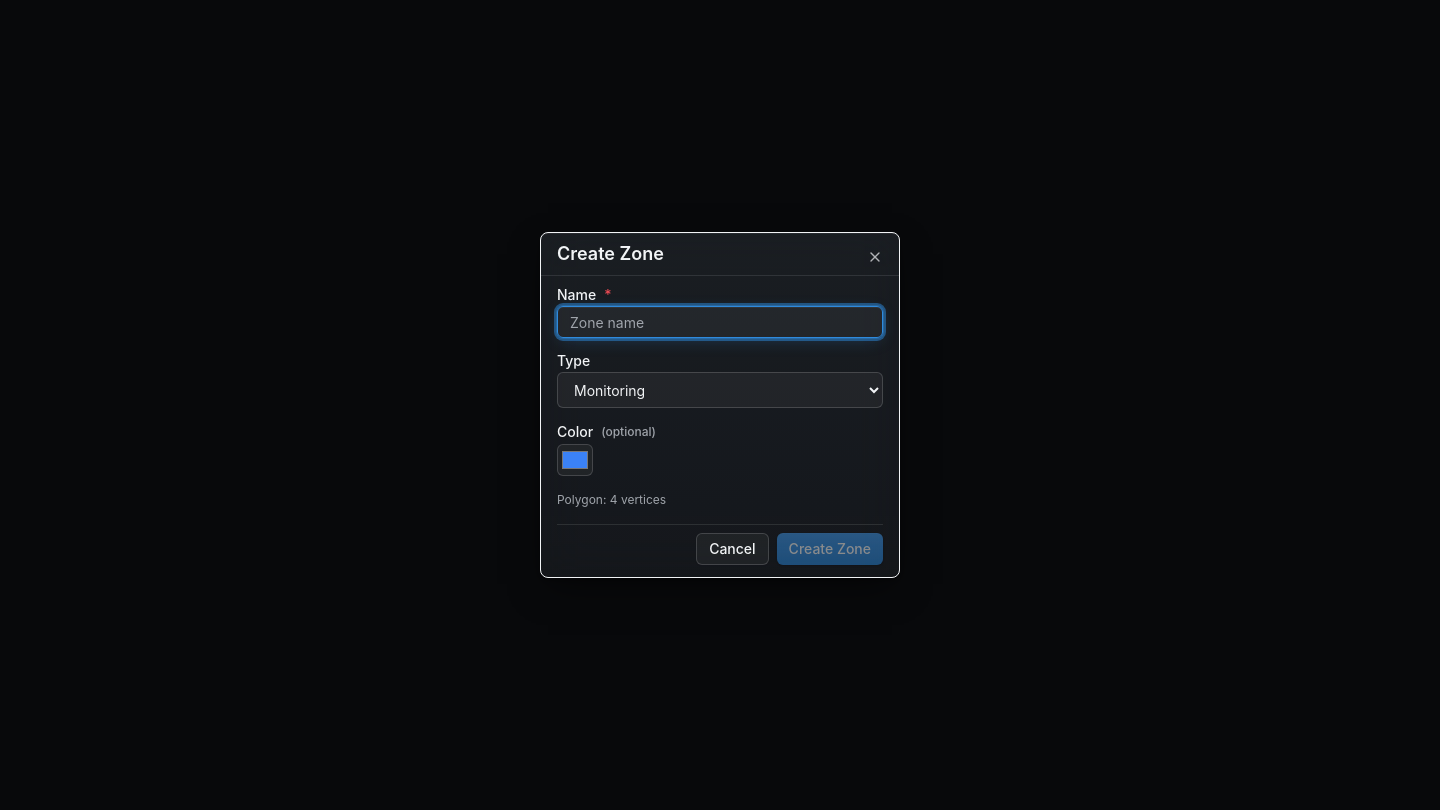
CreateZoneDialog › shows self-intersection validation error for a bowtie polygon
The image size is (1440, 810).
Type "Bad Zone" into the field labelled "Name *" at (720, 322), box [557,306,883,338]
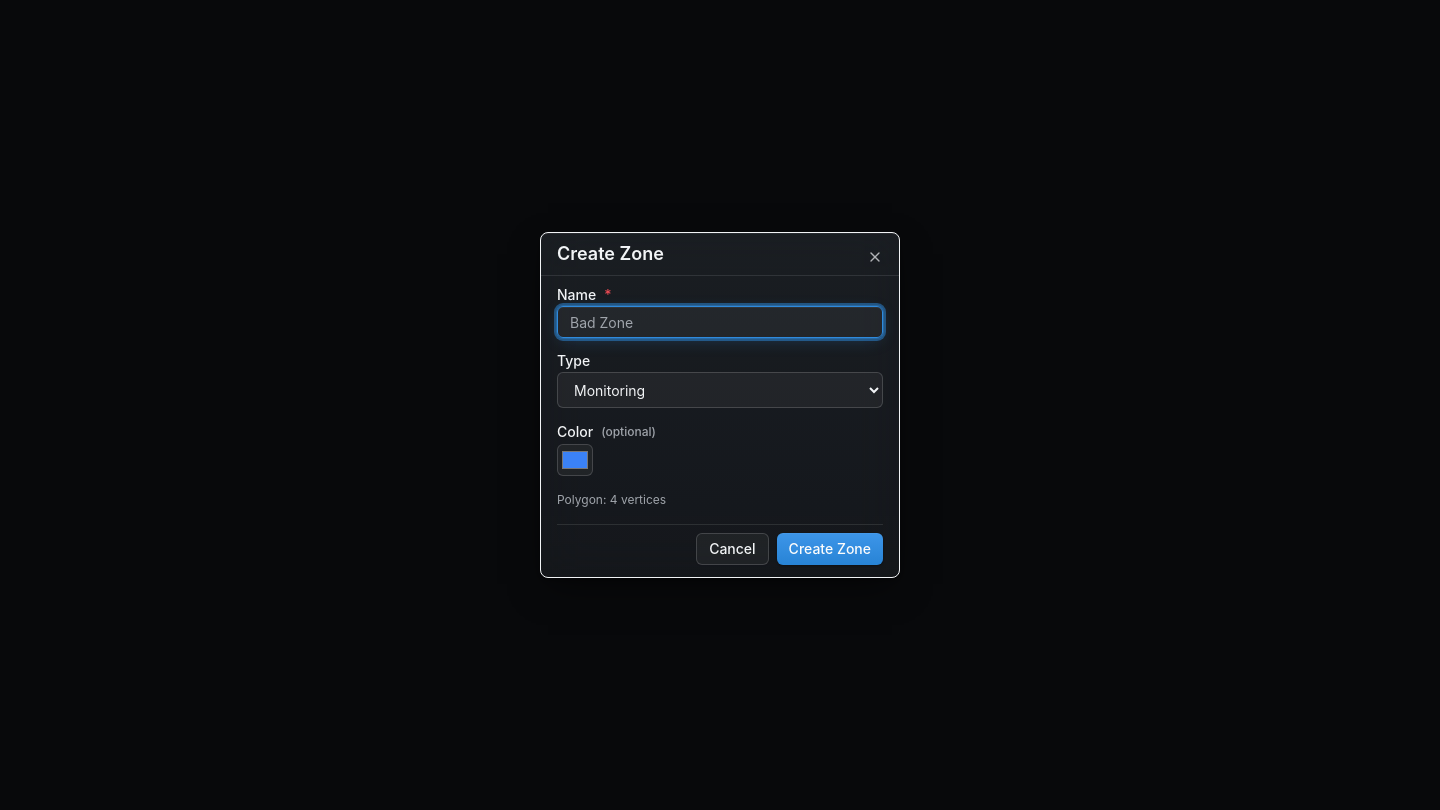
Click the button "Create Zone" at (830, 549), box [777,533,883,565]
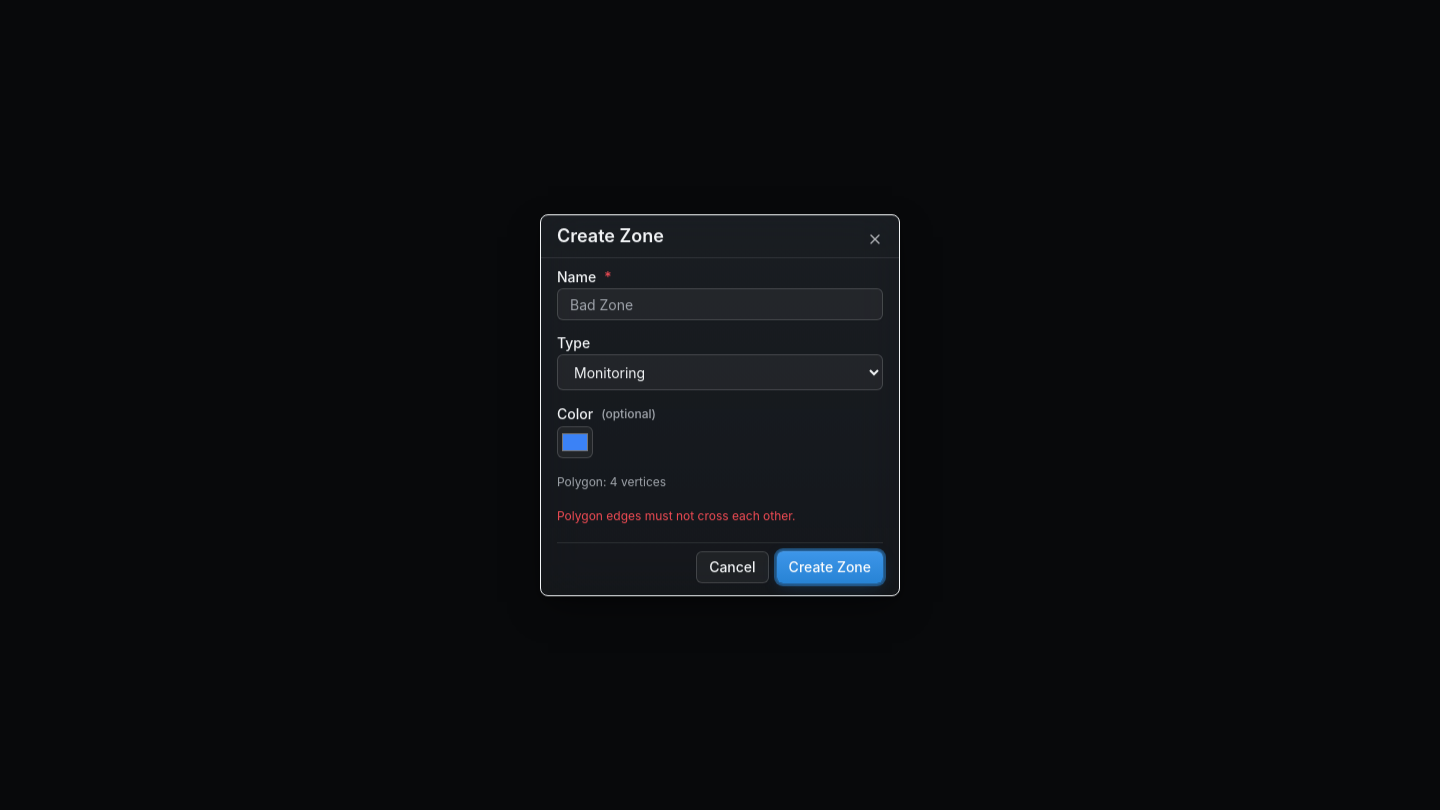
Result: the message reads "Polygon edges must not cross each other." at [557,508,796,523]
